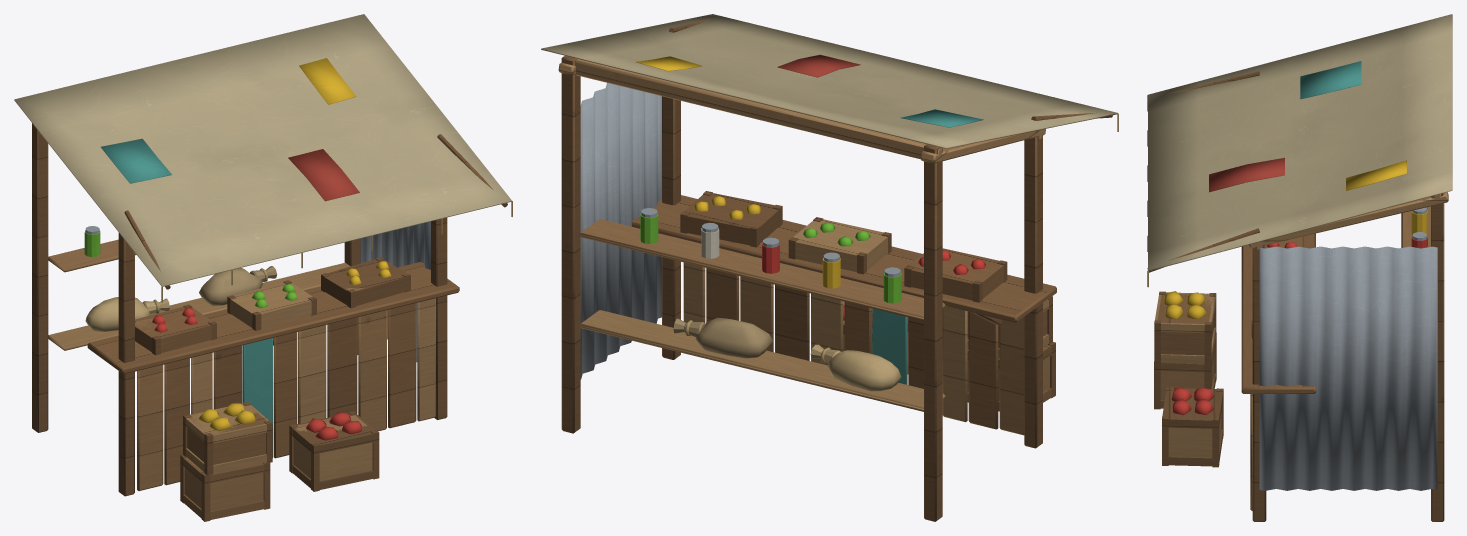
The model's file is market_stall.glb.
3 renders of one model, left to right at view 1: azimuth 30°, elevation 25°; view 2: azimuth 150°, elevation 25°; view 3: azimuth 270°, elevation 25°, orthographic. The views are drawn at different scales.
Parts seen in each view (by area): view 1: market_stall.001; view 2: market_stall.001; view 3: market_stall.001.
Part boxes in pixels (x1,y1,x2,y2): market_stall.001: (14,14,512,521); market_stall.001: (541,14,1118,521); market_stall.001: (1147,14,1452,521).
Bounding box in the file's own units: 2.81 × 2.52 × 2.06.
30 materials, 30 textured.
